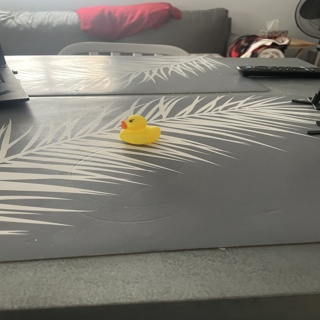duck_regular: (119, 119, 159, 145)
